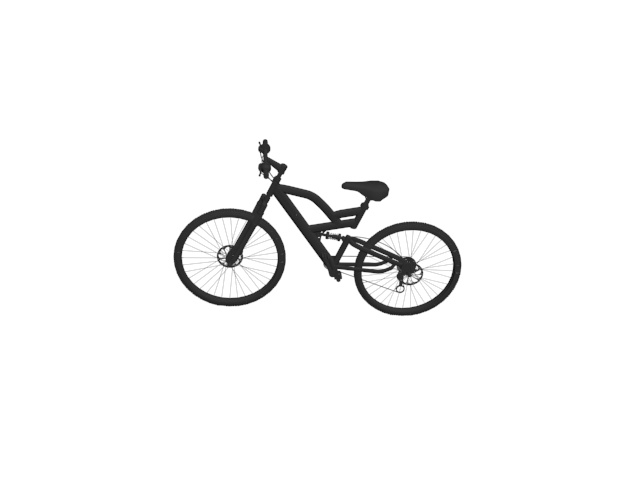bike: (169, 137, 464, 320)
